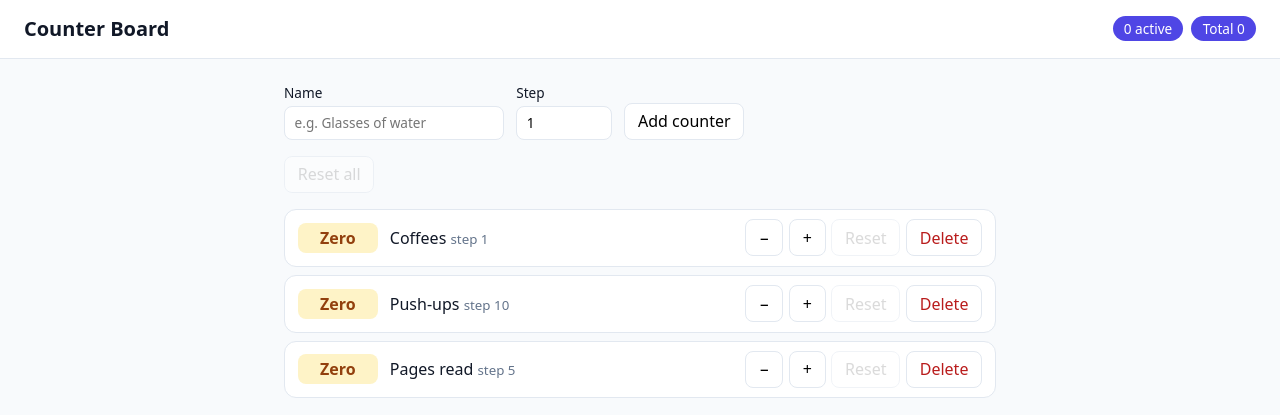
Test: Counter Board › deletes with undo and remembers state across reloads
Later steps or results of the test are not shown.
Click the button named "Increase Coffees by 1": [807, 238] box [789,219,826,256]
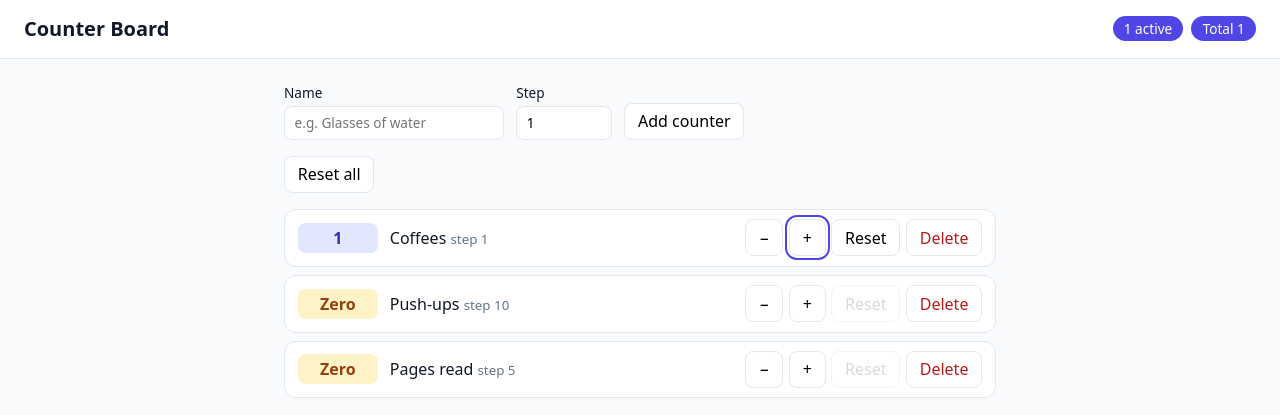
Click the button with aria-label "Delete Pages read": [944, 370] box [906,351,982,388]
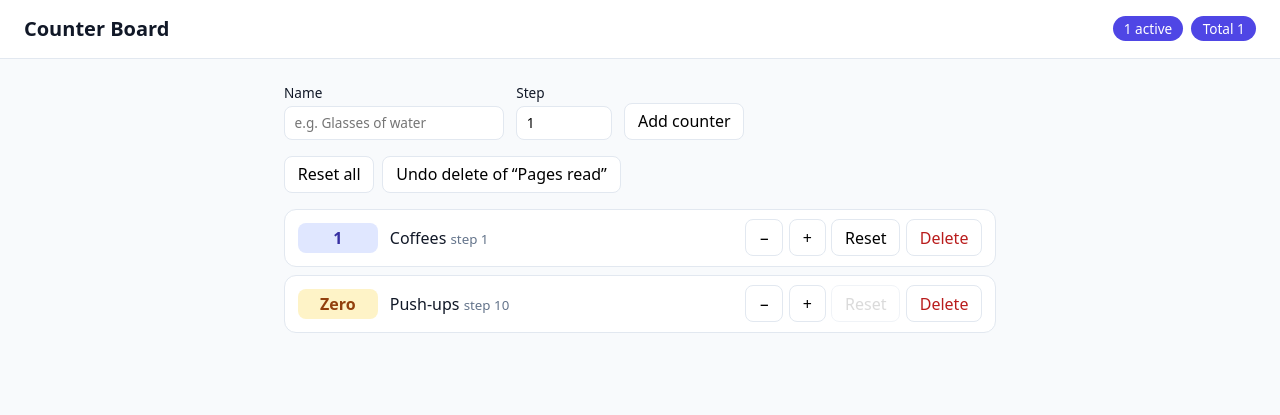
Click the button "Undo delete of “Pages read”": [502, 174] box [382,156,621,193]
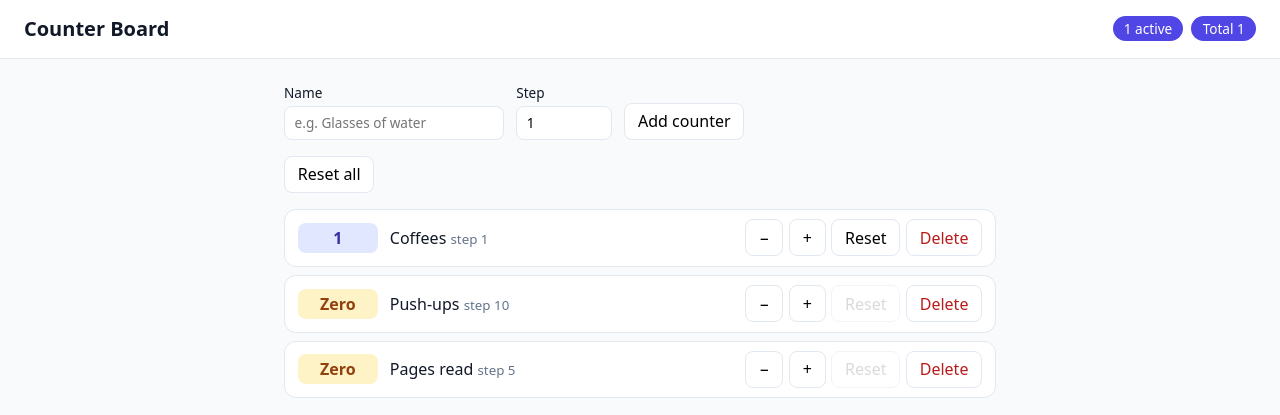
Expected: the text named "Pages read: 0" is shown, [298,354,378,384]
